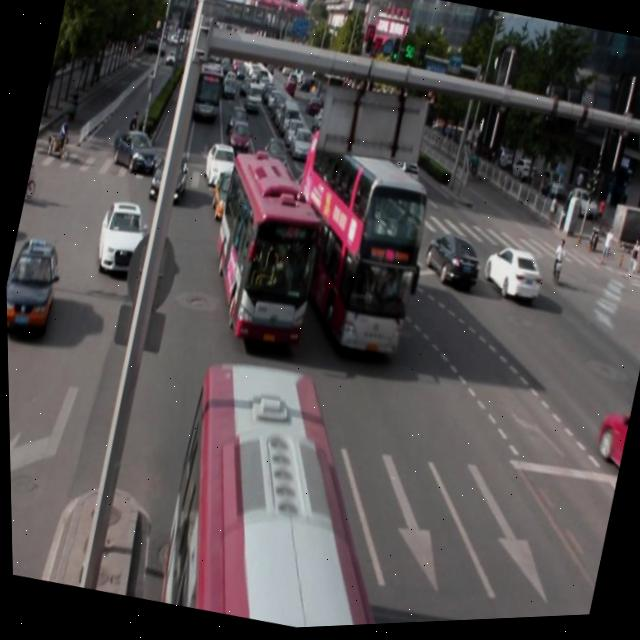car: (89, 196, 153, 283), (476, 242, 545, 310), (417, 229, 484, 296), (146, 146, 193, 205)
van: (150, 350, 440, 635), (267, 129, 439, 361), (194, 147, 336, 353)
